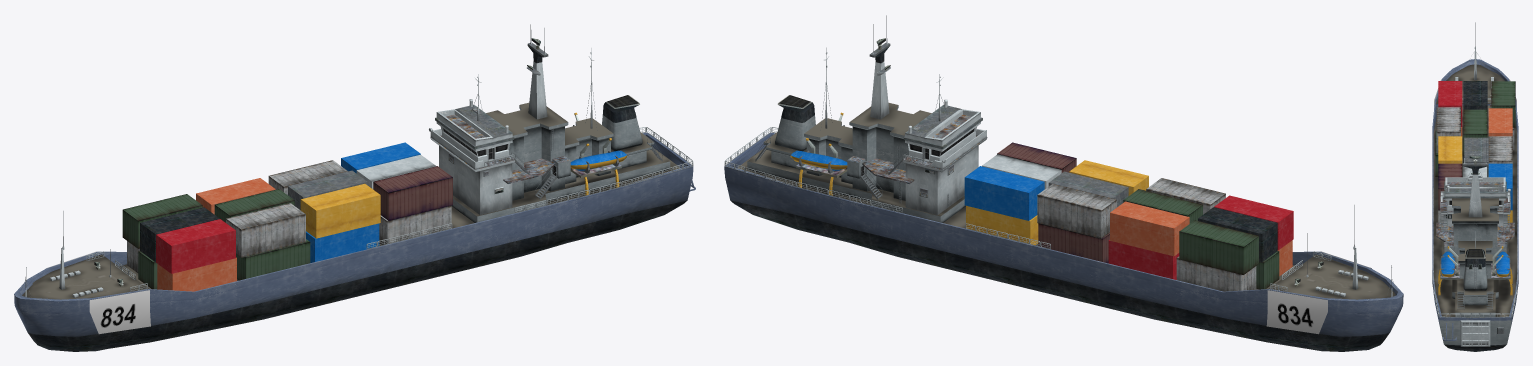
Rendered from tankers2.FBX.
The picture shows the model from 3 angles, left to right: view 1: azimuth 30°, elevation 25°; view 2: azimuth 150°, elevation 25°; view 3: azimuth 270°, elevation 25°; orthographic projection. The views are drawn at different scales.
Visible parts, largest first — view 1: RT_Port_St01_Cargo_D_SmallContainer_01; view 2: RT_Port_St01_Cargo_D_SmallContainer_01; view 3: RT_Port_St01_Cargo_D_SmallContainer_01.
Boxes of the visible parts, box(x1,y1,x2,y2) form: RT_Port_St01_Cargo_D_SmallContainer_01: box(14, 24, 695, 351); RT_Port_St01_Cargo_D_SmallContainer_01: box(724, 15, 1403, 351); RT_Port_St01_Cargo_D_SmallContainer_01: box(1432, 22, 1518, 351).
Size of the model in its own units: 48.52 by 15.91 by 7.01.
